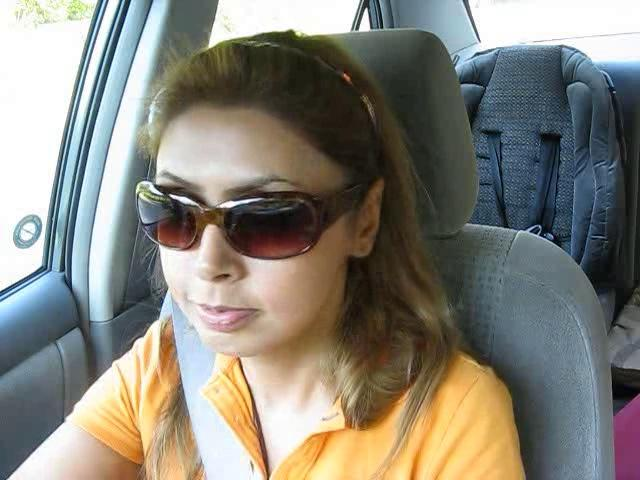no_yawn: (177, 281, 279, 346)
